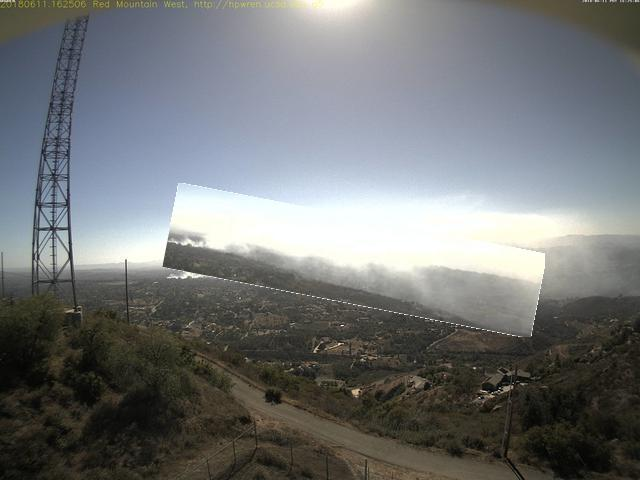smoke: (166, 202, 545, 322)
